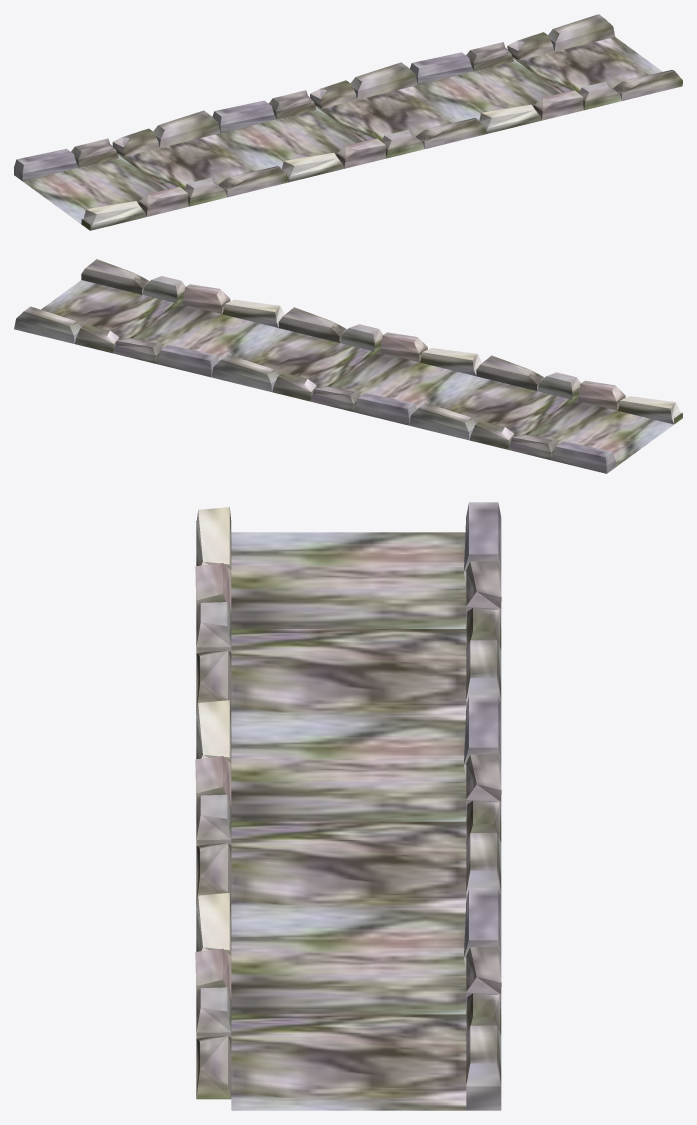
Rendered from raoad.FBX.
3 renders of one model, top to bottom at view 1: azimuth 30°, elevation 25°; view 2: azimuth 150°, elevation 25°; view 3: azimuth 270°, elevation 25°, orthographic. The views are drawn at different scales.
Parts seen in each view (by area): view 1: NoName21; view 2: NoName21; view 3: NoName21.
Part boxes in pixels (left/top/right/bottom): NoName21: left=14, top=14, right=682, bottom=230; NoName21: left=14, top=259, right=682, bottom=473; NoName21: left=195, top=502, right=501, bottom=1110.
Size of the model in its own units: 213 by 6.66 by 47.73.
Materials: 1 (1 with a texture image).
